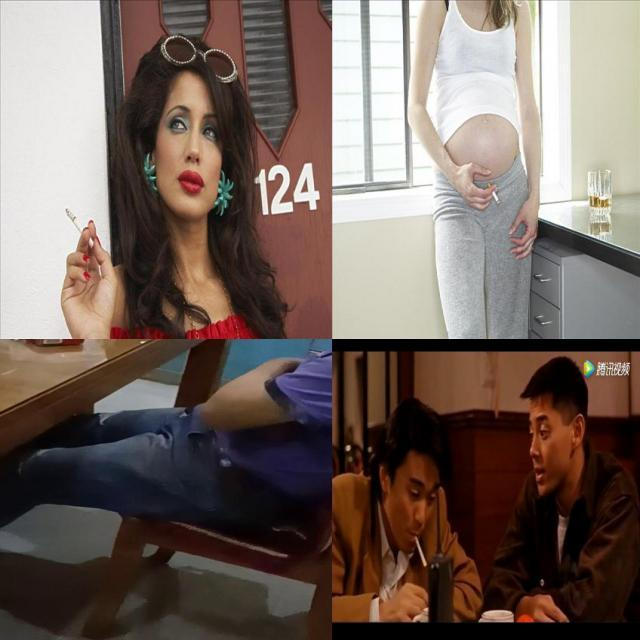smoke: (64, 206, 95, 250), (412, 531, 427, 573), (485, 180, 501, 207)
